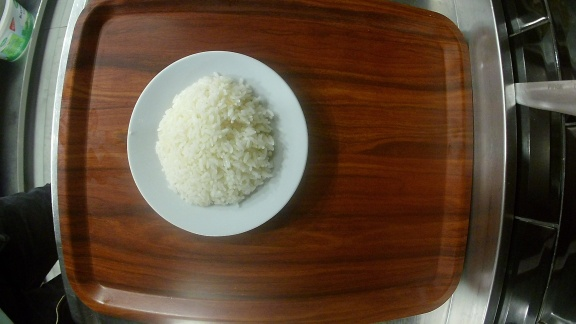pilav: (127, 50, 309, 237)
